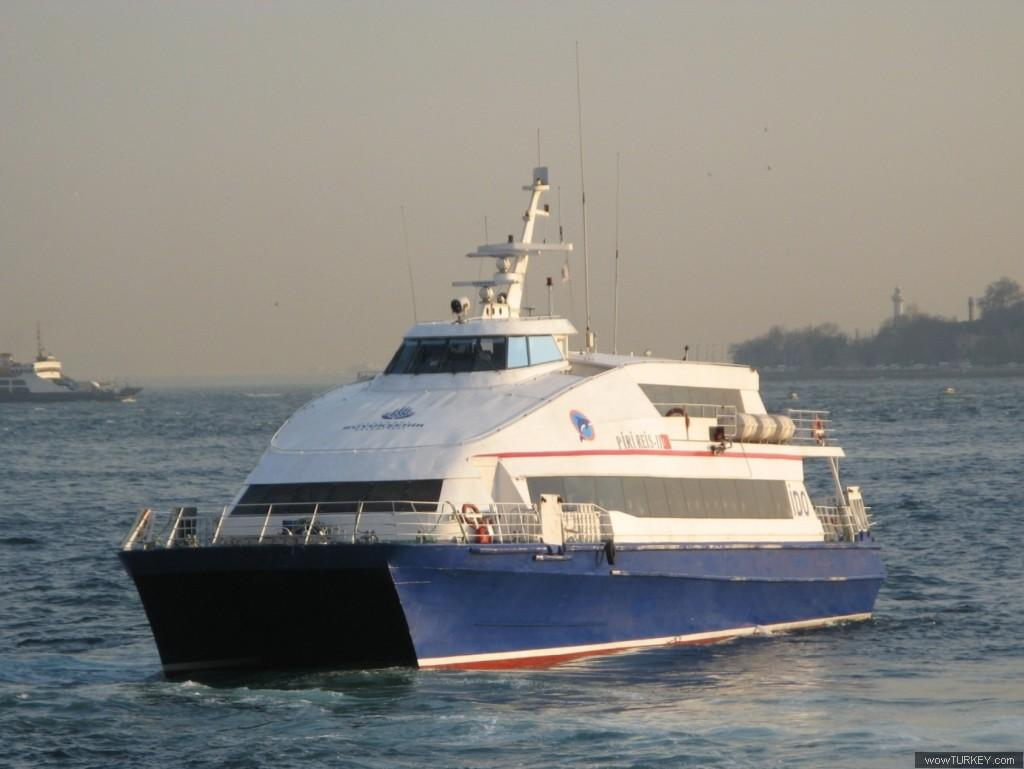PassengerShip: (104, 118, 900, 686), (0, 338, 146, 406)
